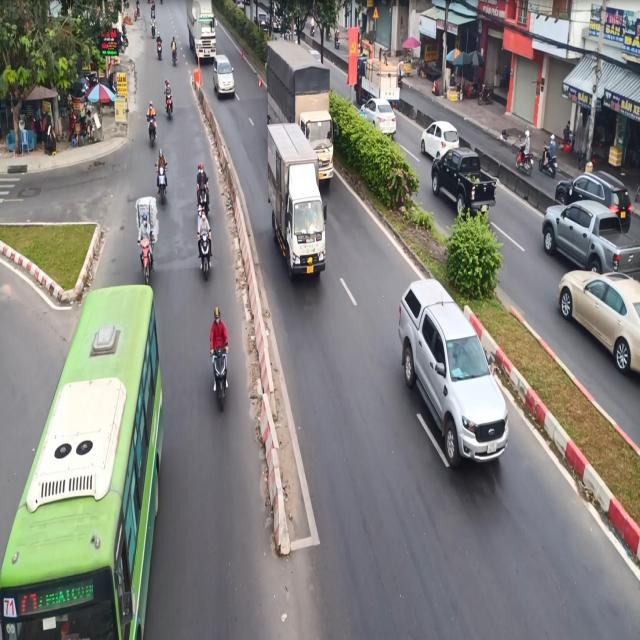bus: (4, 277, 170, 640)
car: (399, 273, 510, 479), (211, 52, 237, 101)
motorbike: (206, 297, 237, 415), (136, 212, 156, 282), (196, 212, 214, 286), (195, 159, 211, 212), (156, 148, 169, 205), (146, 92, 158, 142), (162, 75, 174, 119)
truck: (262, 121, 332, 283)
